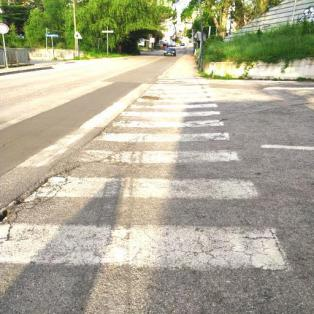Paso de Cebra: (61, 129, 246, 167), (127, 97, 221, 112)
